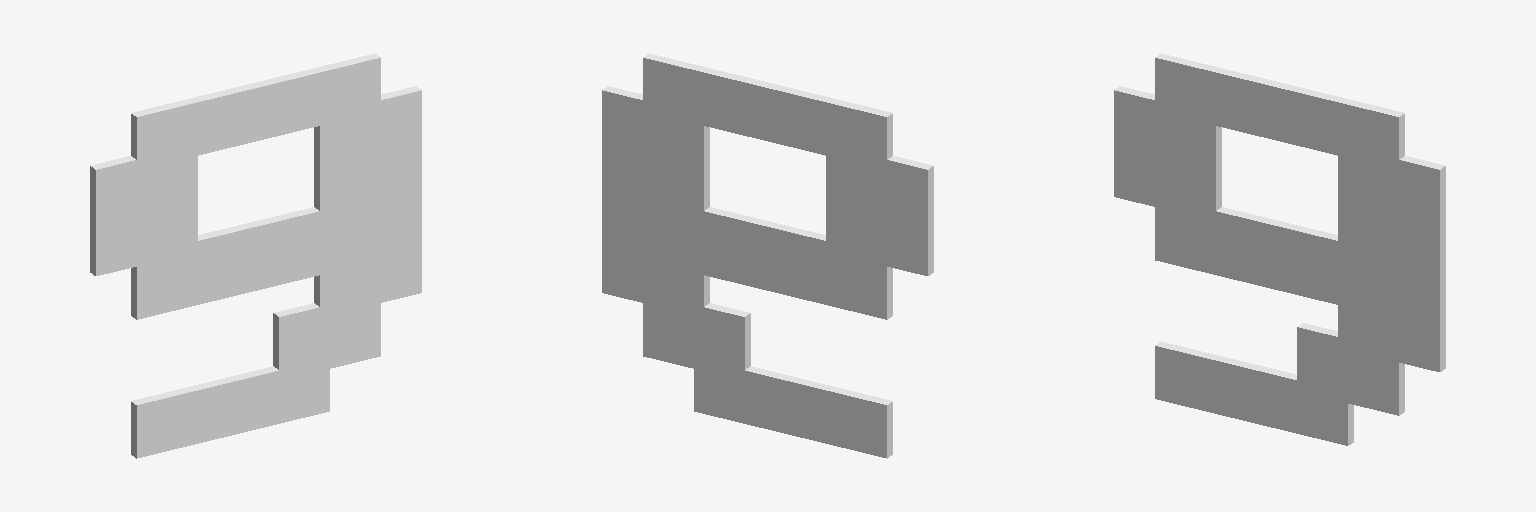
3 renders of one model, left to right at view 1: azimuth 30°, elevation 25°; view 2: azimuth 150°, elevation 25°; view 3: azimuth 330°, elevation 25°, orthographic.
Parts seen in each view (by area): view 1: ch_9_32; view 2: ch_9_32; view 3: ch_9_32.
Part boxes in pixels (bbox=[...]): ch_9_32: bbox=[90, 53, 421, 458]; ch_9_32: bbox=[602, 53, 933, 458]; ch_9_32: bbox=[1114, 53, 1445, 445].
Size of the model in its own units: 32 by 32 by 1.